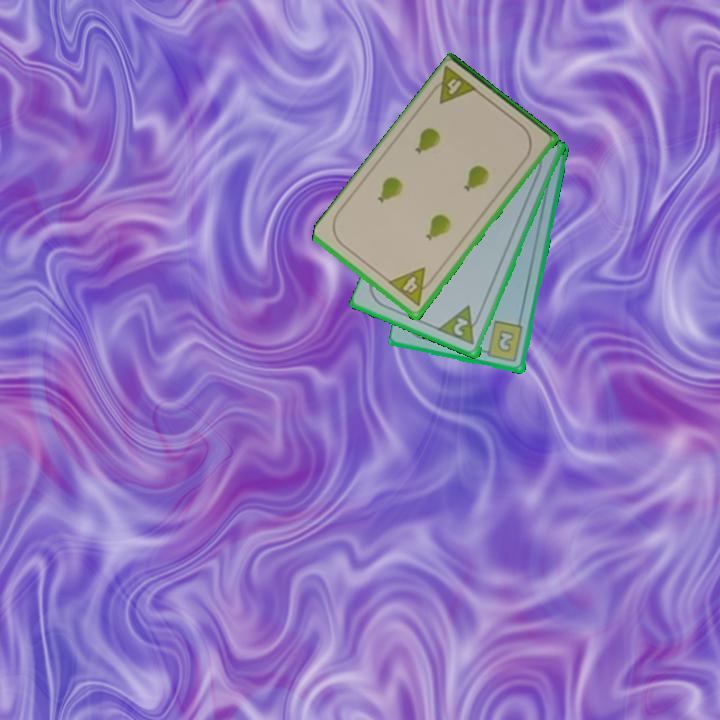2b: (478, 318, 526, 365)
2p: (450, 314, 471, 339)
4p: (425, 63, 481, 108), (385, 264, 438, 310)
